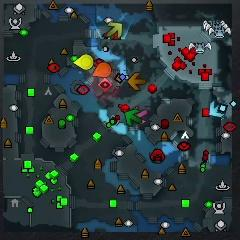p4: (74, 54, 94, 70)
p5: (91, 62, 112, 77)
x1: (134, 109, 148, 126)
x2: (106, 21, 123, 38)
x3: (209, 101, 225, 117)
x4: (125, 109, 141, 127)
x5: (128, 72, 147, 90)
